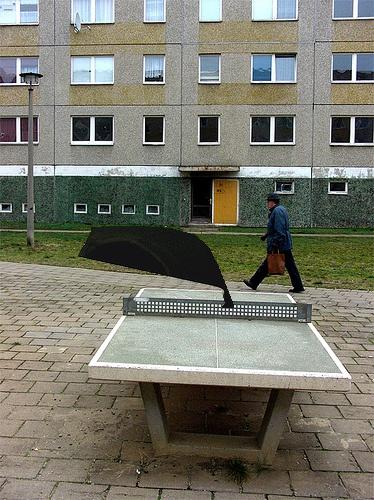tampered: (79, 227, 234, 308)
